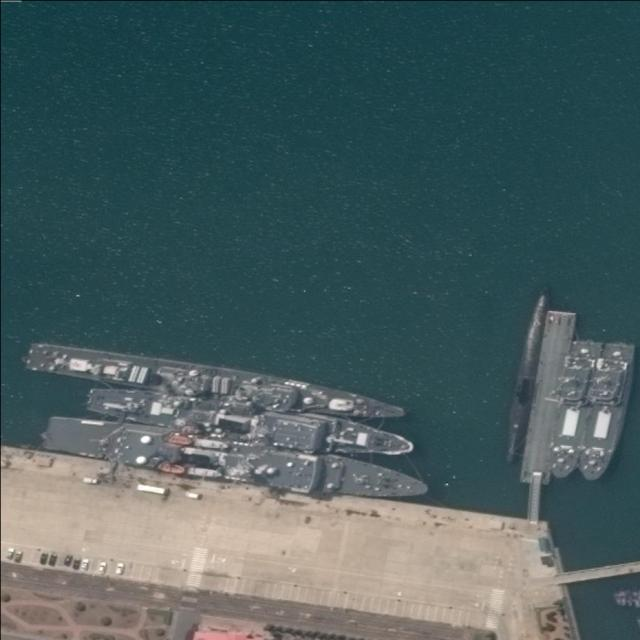Destroyer: (23, 339, 406, 425)
Landing: (540, 336, 605, 480), (582, 340, 634, 484)
Other Warship: (39, 414, 429, 505), (85, 383, 419, 462)
Submarine: (501, 283, 551, 467)
